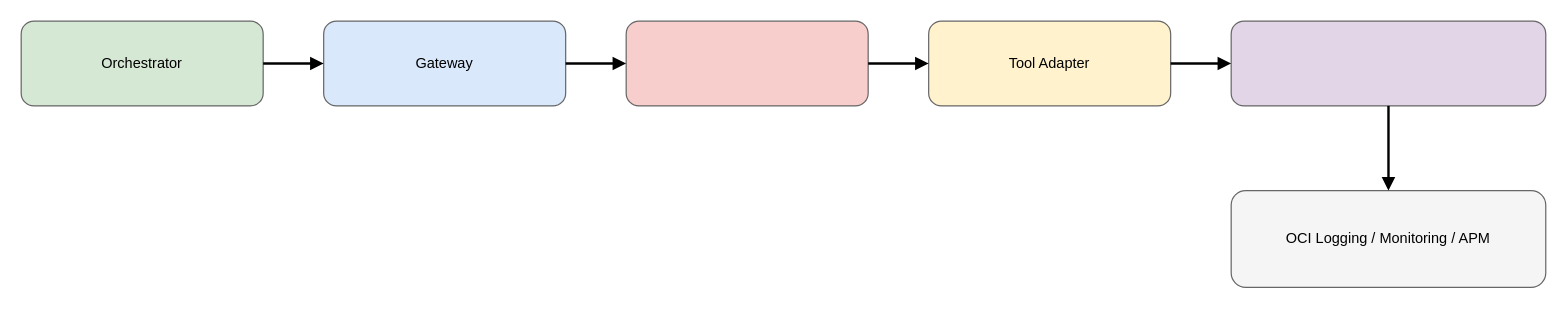
This 1567x309 diagram has some shape labels left out. Here are the shapes that lost their labels. From the top down, the centre of each, then its label:
At point 746,63: "Executor".
At point 1388,63: "OpenTelemetry Collector".
